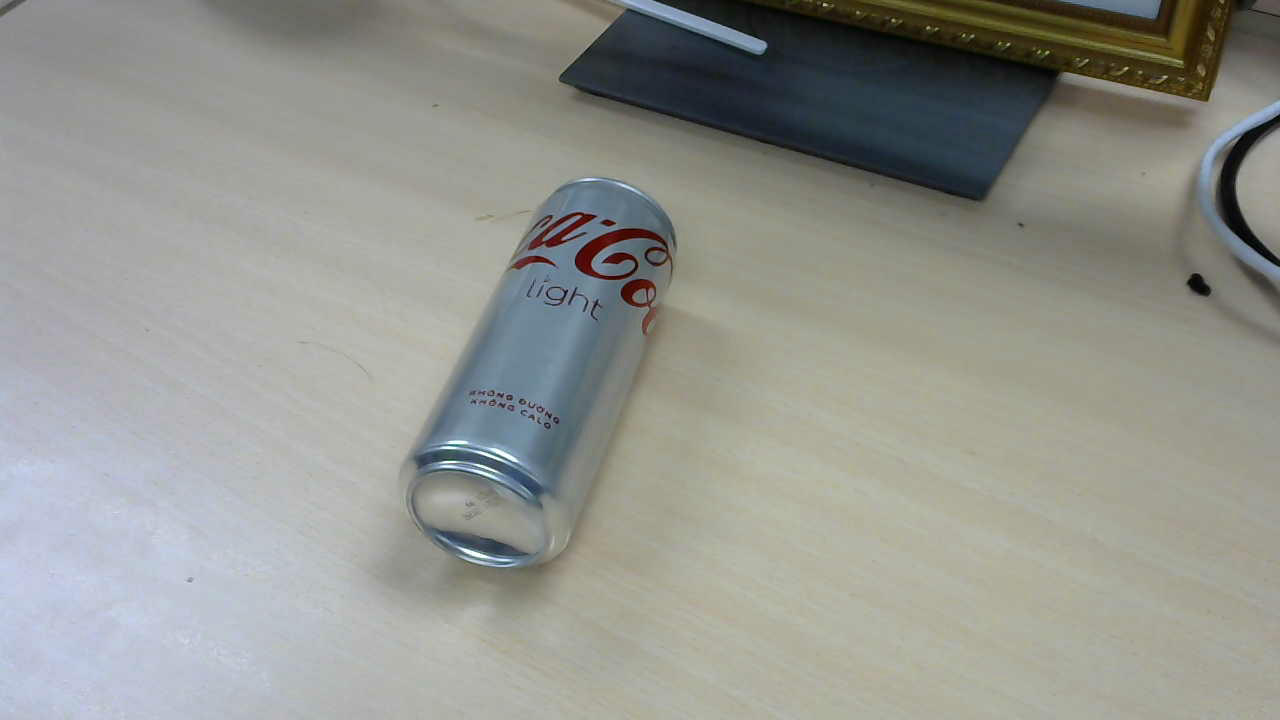Coca_Cola: (406, 180, 681, 578)
